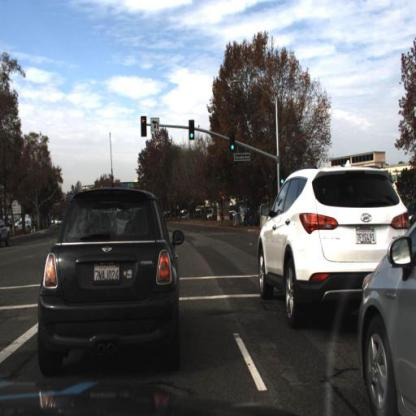car: (36, 180, 185, 385), (256, 169, 410, 328), (350, 173, 416, 415), (1, 204, 17, 260), (14, 212, 38, 234)
trafficLight-Green: (227, 130, 239, 161), (188, 117, 198, 145), (230, 131, 239, 155), (279, 167, 287, 188)
trafficLight-RedLeft: (140, 116, 150, 143)
